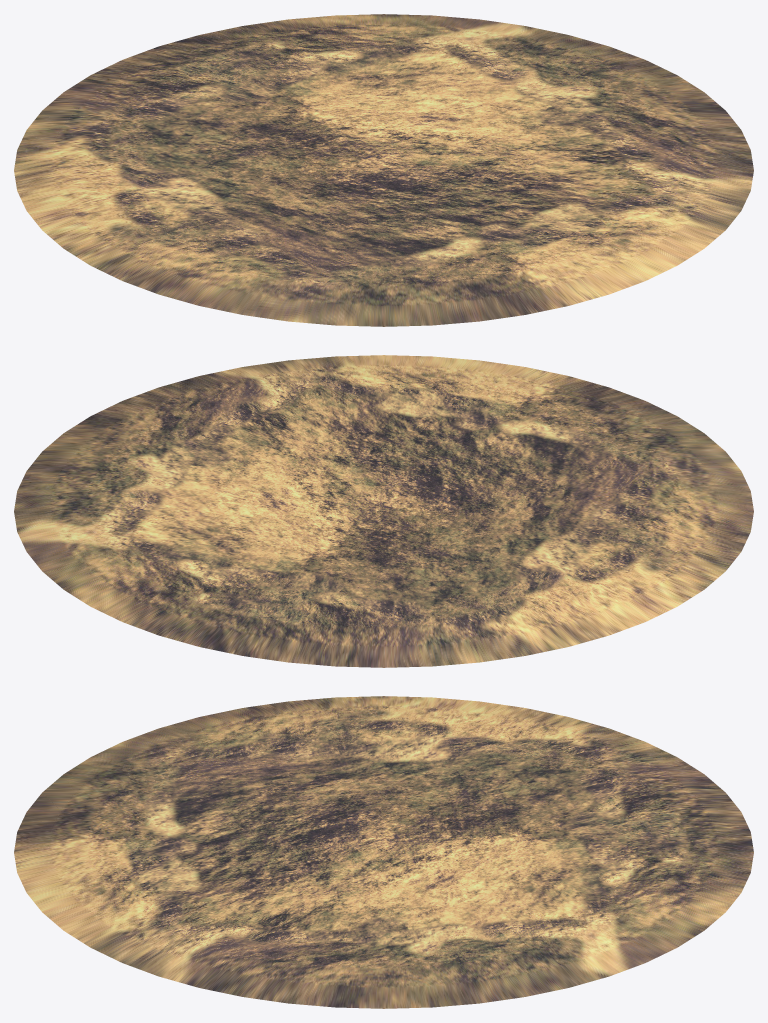
The model's file is ground.fbx.
The picture shows the model from 3 angles, top to bottom: view 1: azimuth 30°, elevation 25°; view 2: azimuth 150°, elevation 25°; view 3: azimuth 270°, elevation 25°; orthographic projection.
Visible parts, largest first — view 1: FLOOR; view 2: FLOOR; view 3: FLOOR.
Part boxes in pixels (left/top/right/bottom): FLOOR: left=14, top=14, right=753, bottom=326; FLOOR: left=14, top=355, right=753, bottom=667; FLOOR: left=14, top=696, right=753, bottom=1008.
Size of the model in its own units: 0.4679 by 0.00772 by 0.4679.
